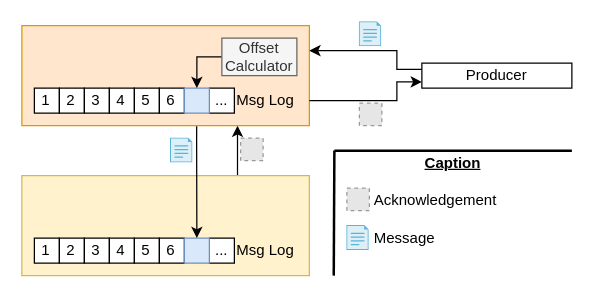
Image size: 596x299. Some labels were removed from this diagram. Grey dashed boxes stand in for pictures. Here are the shapes that lost their labels. From the top down, the box of each, then its label:
(21, 24, 309, 126): Partition A (Lead)
(21, 174, 309, 276): Partition A (Follower)
